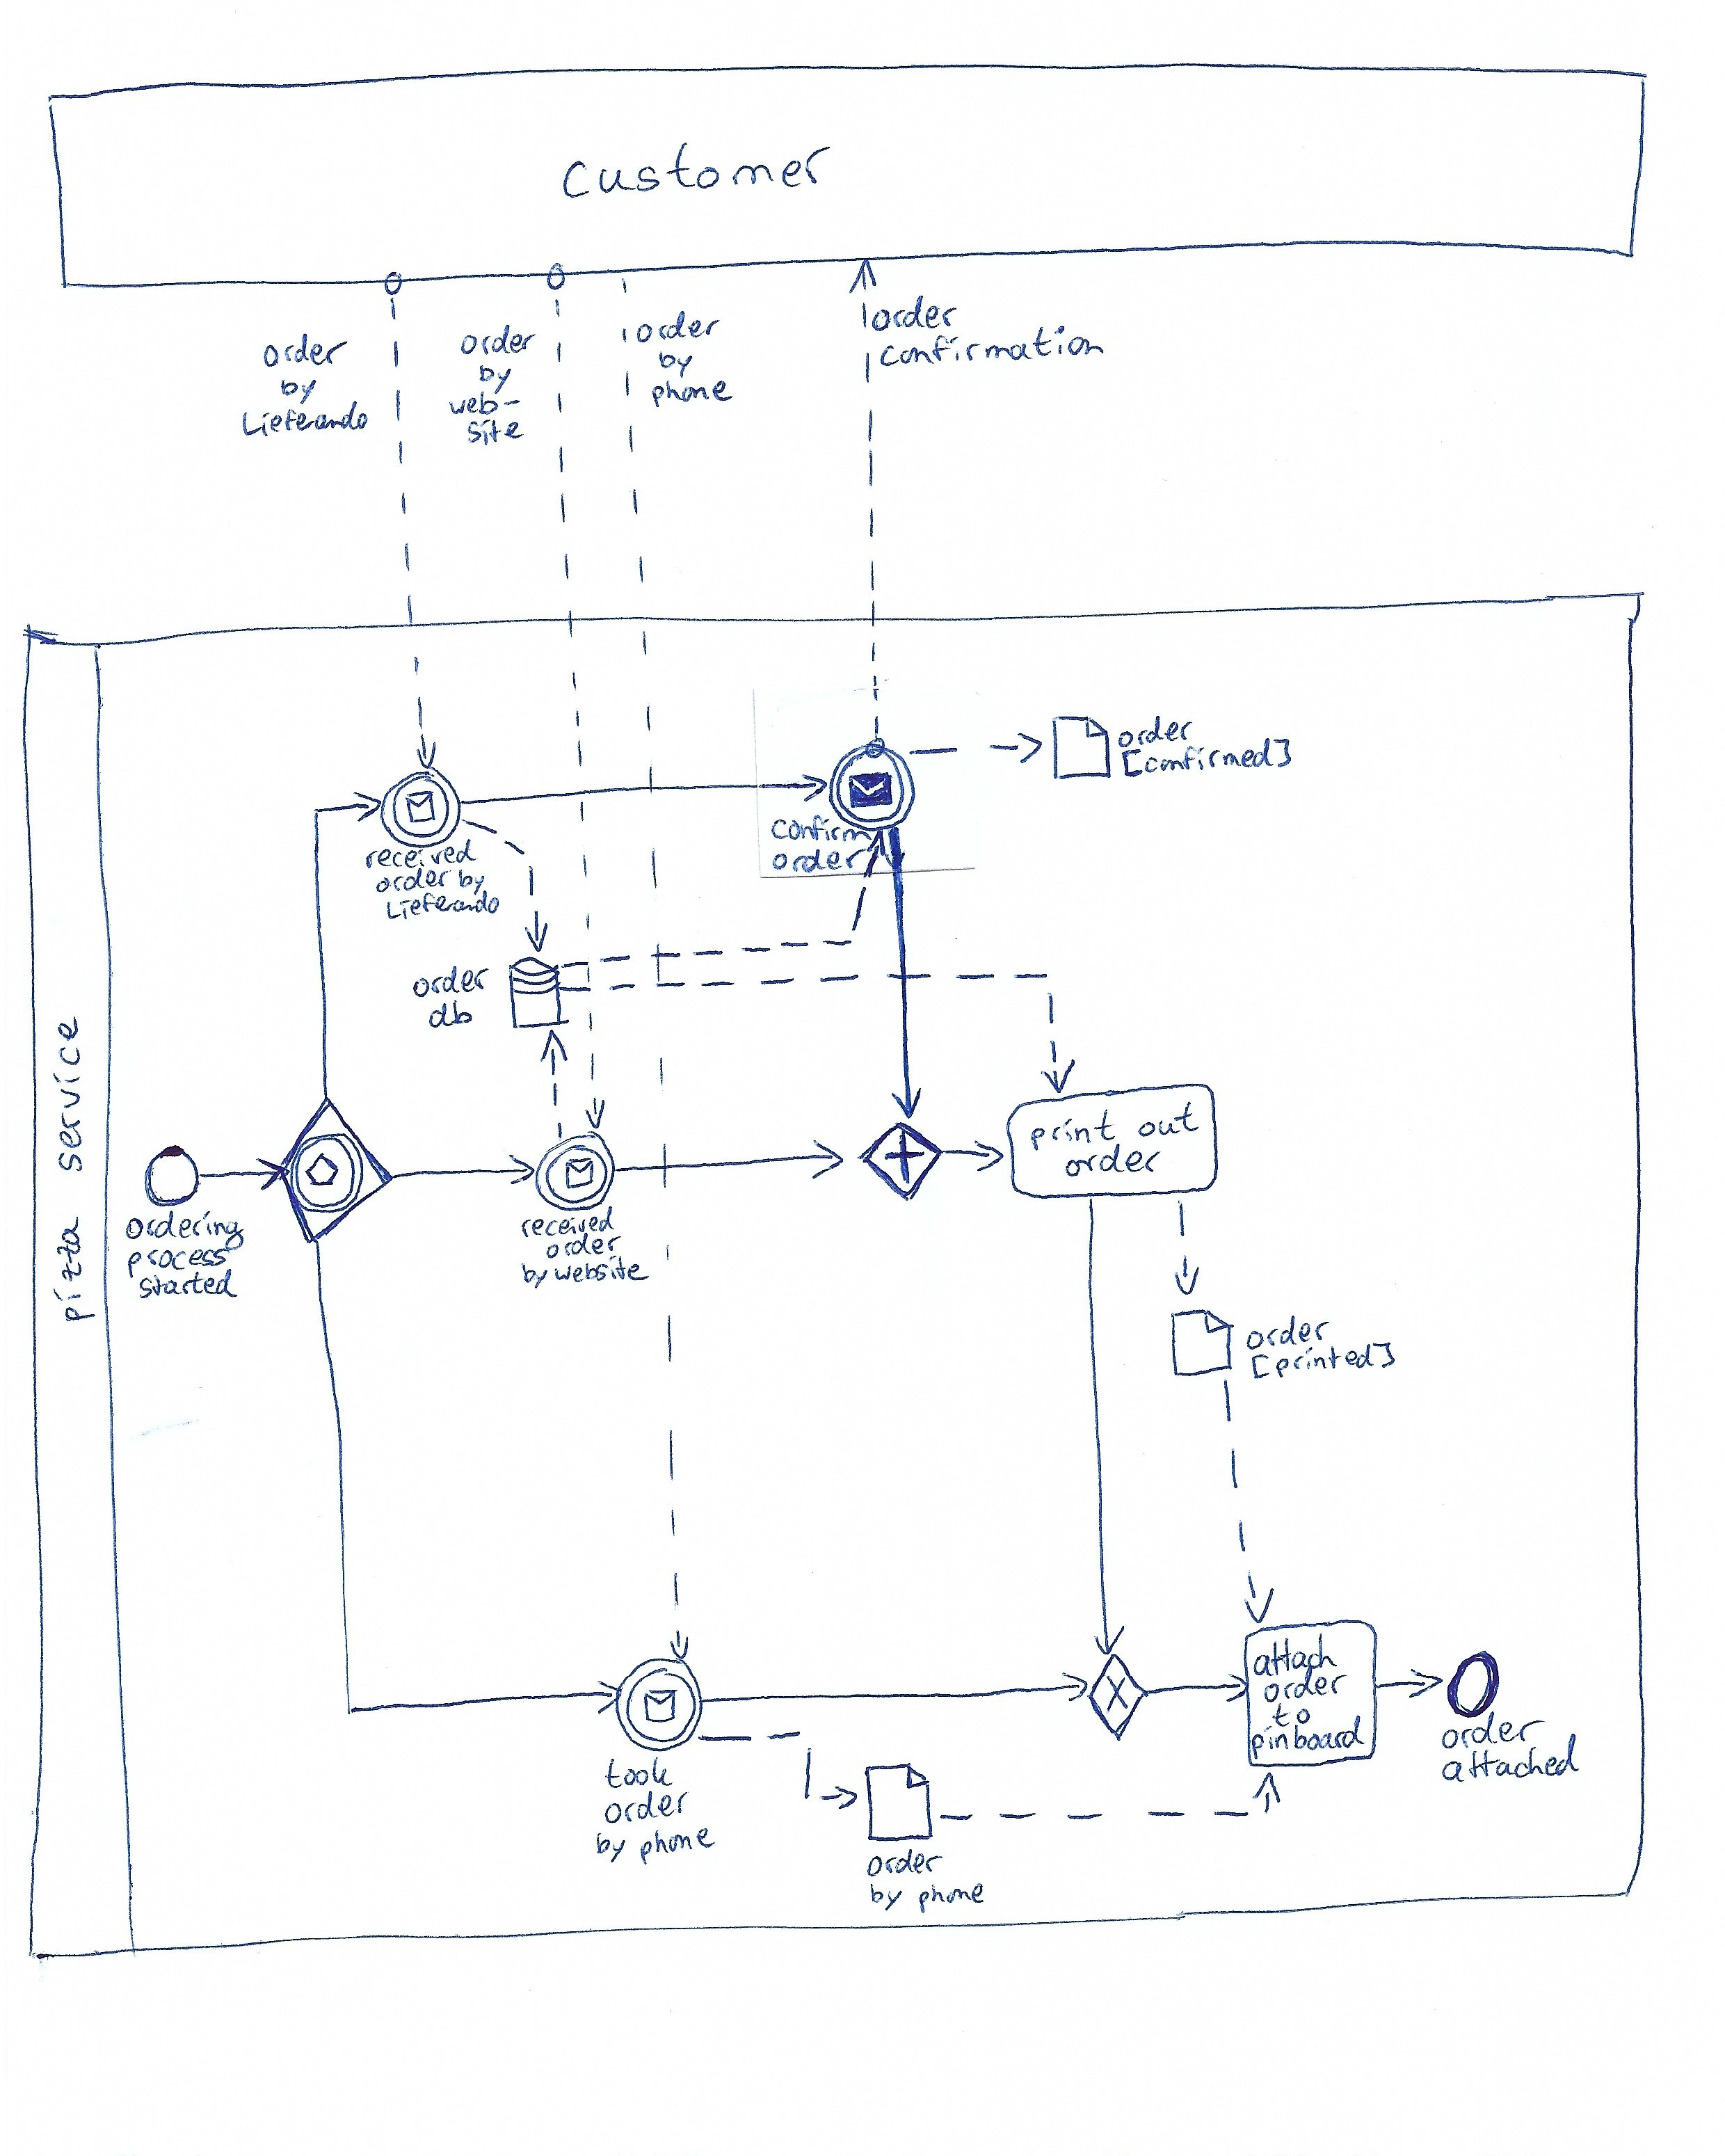Lieferando: (234, 403, 371, 436), (382, 892, 502, 919)
[confirmed]: (1121, 750, 1292, 787)
[printed]: (1250, 1352, 1392, 1387)
attach: (1250, 1640, 1336, 1676)
attached: (1438, 1746, 1581, 1786)
by: (278, 371, 317, 407), (864, 1883, 908, 1913), (593, 1830, 632, 1864), (655, 347, 697, 377), (475, 363, 514, 394), (516, 1262, 551, 1290), (456, 868, 486, 892)
confirm: (767, 813, 877, 847)
confirmation: (875, 336, 1105, 378)
customer: (560, 139, 829, 204)
db: (428, 996, 473, 1038)
order: (1442, 1712, 1545, 1748), (257, 333, 352, 370), (604, 1790, 690, 1830), (1063, 1146, 1160, 1181), (870, 297, 959, 334), (1243, 1318, 1331, 1355), (635, 310, 723, 343), (458, 322, 537, 359), (1262, 1676, 1347, 1709), (410, 968, 489, 1001), (1114, 713, 1193, 746), (769, 847, 868, 873), (368, 868, 451, 896), (866, 1848, 943, 1878), (542, 1236, 620, 1258)
ordering: (125, 1209, 245, 1244)
out: (1130, 1111, 1195, 1149)
phone: (635, 1823, 720, 1866), (648, 375, 732, 405), (915, 1885, 986, 1917)
pinboard: (1246, 1727, 1364, 1765)
pizza: (53, 1214, 95, 1324)
print: (1023, 1119, 1118, 1155)
process: (127, 1244, 238, 1278)
received: (364, 840, 477, 871), (517, 1211, 620, 1237)
service: (49, 1017, 90, 1170)
site: (466, 417, 526, 447)
started: (137, 1269, 236, 1302)
to: (1274, 1700, 1310, 1727)
took: (602, 1755, 676, 1790)
web-: (445, 389, 526, 421)
website: (553, 1258, 648, 1288)
